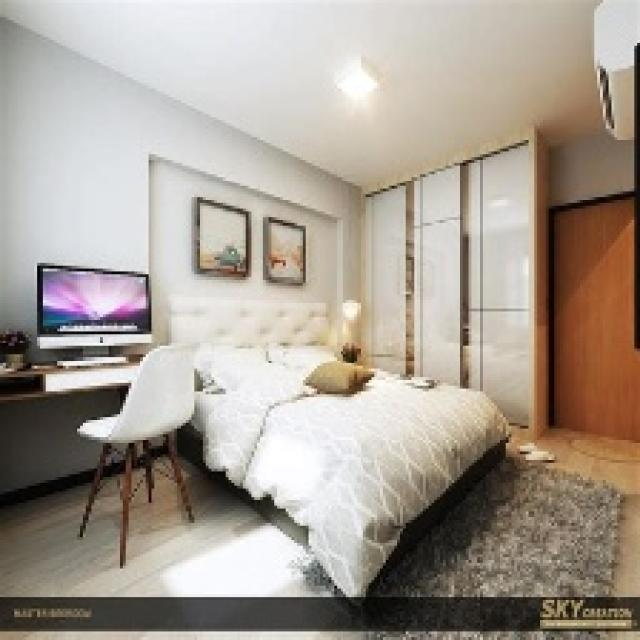Bed: (163, 294, 508, 600)
